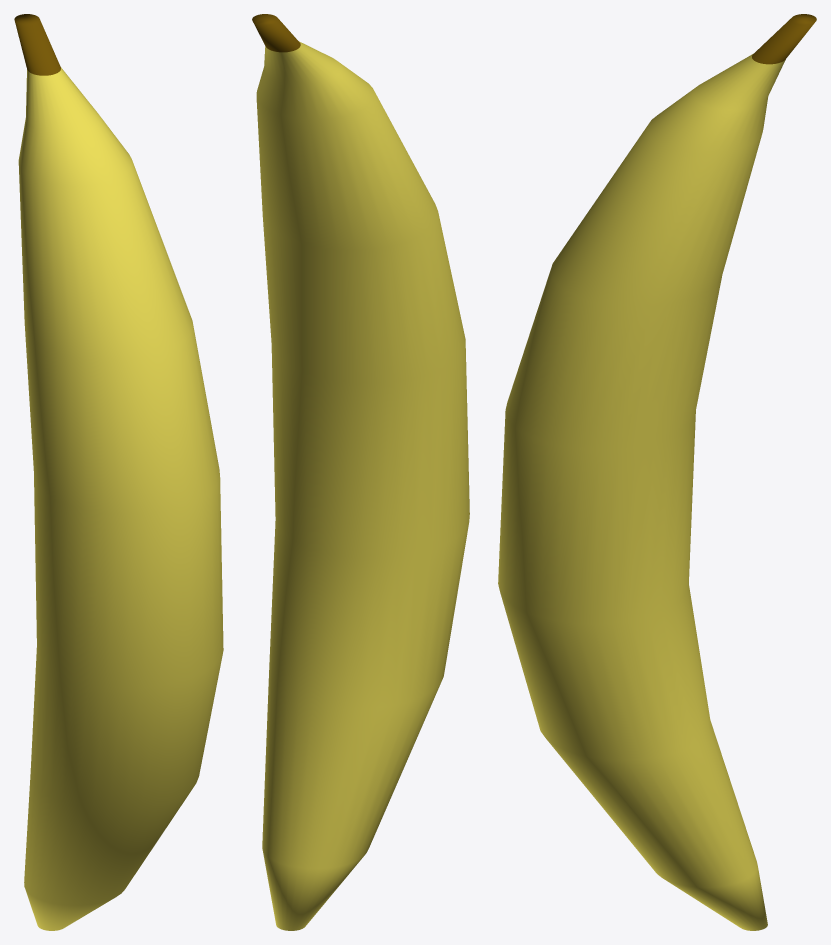
Rendered from Banane.fbx.
3 views of the same model, side by side, from view 1: azimuth 30°, elevation 25°; view 2: azimuth 150°, elevation 25°; view 3: azimuth 270°, elevation 25° (orthographic). The views are drawn at different scales.
Parts seen in each view (by area): view 1: Cylinder.001; view 2: Cylinder.001; view 3: Cylinder.001.
Part boxes in pixels (x1,y1,x2,y2): Cylinder.001: [14, 14, 223, 930]; Cylinder.001: [252, 14, 469, 930]; Cylinder.001: [498, 14, 816, 930].
Bounding box in the file's own units: 200 × 1047 × 334.
